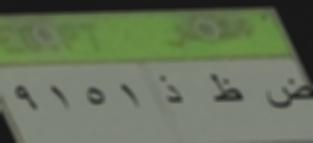1: (48, 80, 76, 116), (118, 79, 143, 117)
5: (80, 83, 110, 112)
9: (12, 78, 40, 115)
Thaa: (206, 67, 247, 110)
daad: (260, 73, 313, 114)
zaal: (155, 68, 184, 114)
